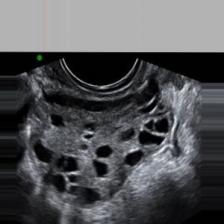pcos: (24, 80, 190, 211)
